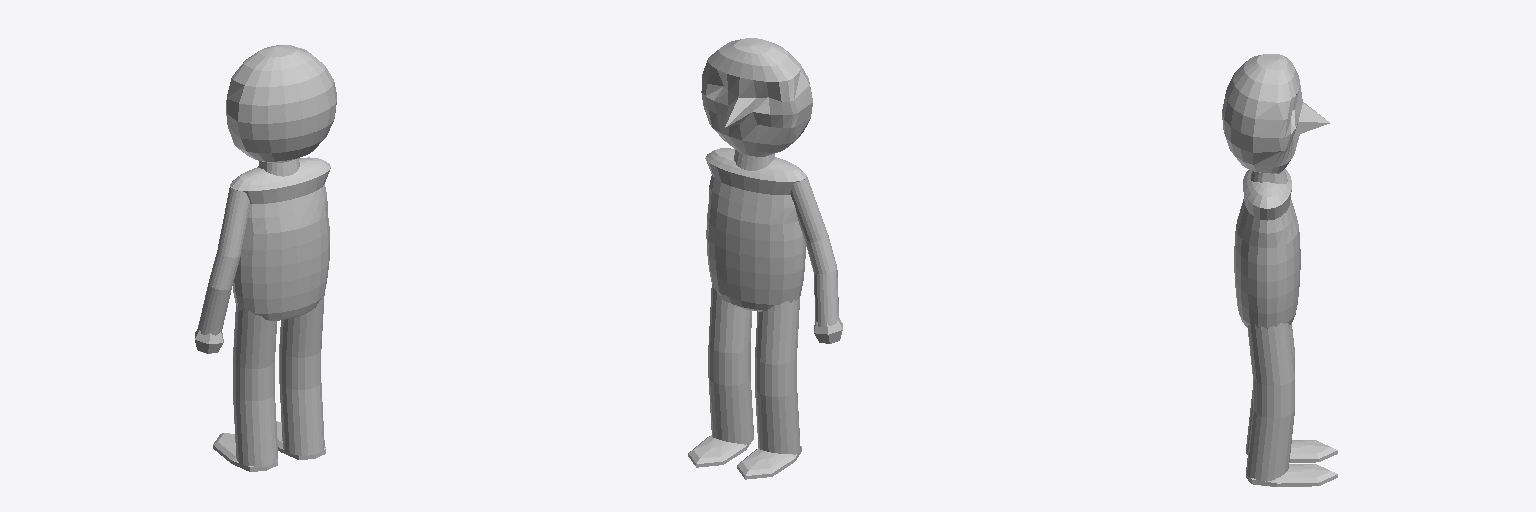
The model's file is man.obj.
The picture shows the model from 3 angles: view 1: azimuth 30°, elevation 25°; view 2: azimuth 150°, elevation 25°; view 3: azimuth 270°, elevation 25°; orthographic projection.
Parts seen in each view (by area): view 1: pSphere2, pSphere2 pSphere1, pSphere2 pCylinder1, pSphere2 pCylinder4, pSphere2 polySurface2, pSphere2 pCylinder1 pSphere6; view 2: pSphere2, pSphere2 pSphere1, pSphere2 pCylinder1, pSphere2 pCylinder4, pSphere2 polySurface2, pSphere2 pCylinder1 pSphere6, pSphere2 pCylinder4 pSphere5; view 3: pSphere2, pSphere2 pSphere1, pSphere2 pCylinder4, pSphere2 pCylinder4 pSphere5, pSphere2 pCylinder1 pSphere6.
Boxes of the visible parts, box(x1,y1,x2,y2) form: pSphere2: box(230, 157, 330, 320); pSphere2 pSphere1: box(226, 45, 336, 176); pSphere2 pCylinder1: box(233, 305, 277, 466); pSphere2 pCylinder4: box(279, 292, 324, 455); pSphere2 polySurface2: box(198, 186, 249, 335); pSphere2 pCylinder1 pSphere6: box(213, 433, 277, 471); pSphere2: box(705, 148, 806, 311); pSphere2 pSphere1: box(701, 38, 812, 170); pSphere2 pCylinder1: box(755, 297, 800, 454); pSphere2 pCylinder4: box(708, 284, 753, 444); pSphere2 polySurface2: box(790, 176, 838, 326); pSphere2 pCylinder1 pSphere6: box(737, 446, 801, 479); pSphere2 pCylinder4 pSphere5: box(688, 435, 750, 467); pSphere2: box(1234, 169, 1300, 328); pSphere2 pSphere1: box(1222, 54, 1329, 183); pSphere2 pCylinder4: box(1246, 322, 1294, 481); pSphere2 pCylinder4 pSphere5: box(1246, 464, 1337, 486); pSphere2 pCylinder1 pSphere6: box(1246, 440, 1337, 462).
Size of the model in its own units: 2.59 by 7.48 by 1.92.